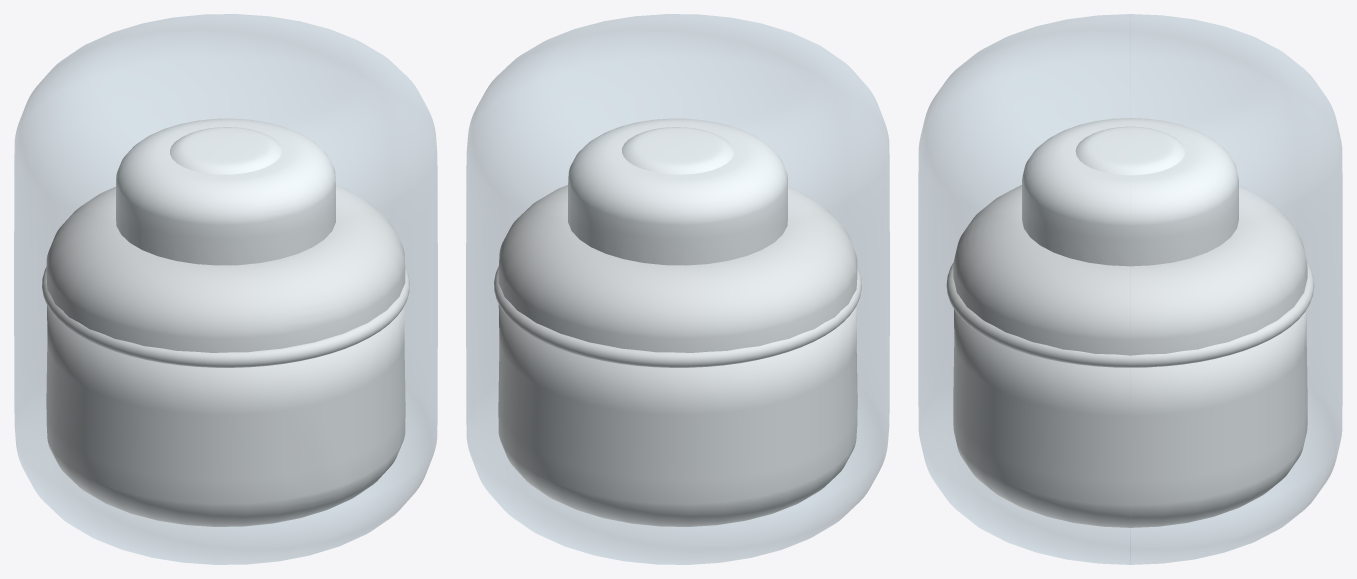
Rendered from capsule(finallyfinal).glb.
The picture shows the model from 3 angles, left to right: view 1: azimuth 30°, elevation 25°; view 2: azimuth 150°, elevation 25°; view 3: azimuth 270°, elevation 25°; orthographic projection.
Parts seen in each view (by area): view 1: Glass.001, Inner_CoreTop, Inner_CoreBottom; view 2: Glass.001, Inner_CoreTop, Inner_CoreBottom; view 3: Glass.001, Inner_CoreTop, Inner_CoreBottom.
Part boxes in pixels (left/top/right/bottom): Glass.001: left=14, top=14, right=437, bottom=564; Inner_CoreTop: left=42, top=118, right=409, bottom=367; Inner_CoreBottom: left=46, top=305, right=405, bottom=526; Glass.001: left=466, top=14, right=889, bottom=564; Inner_CoreTop: left=494, top=118, right=861, bottom=367; Inner_CoreBottom: left=498, top=304, right=857, bottom=526; Glass.001: left=918, top=14, right=1342, bottom=564; Inner_CoreTop: left=946, top=118, right=1314, bottom=367; Inner_CoreBottom: left=953, top=309, right=1307, bottom=527.
Bounding box in the file's own units: 0.981 × 1.09 × 0.981.
